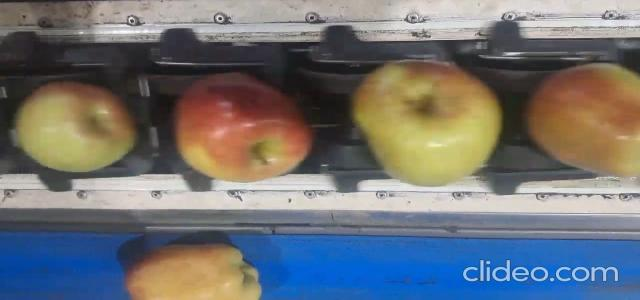apple: (352, 61, 500, 186), (175, 73, 310, 181), (528, 64, 640, 177), (529, 64, 640, 176), (16, 82, 135, 171)
